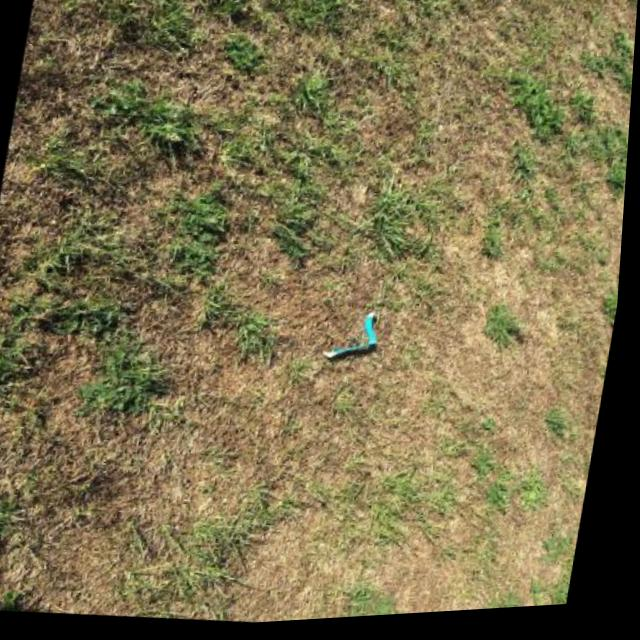other: (320, 306, 380, 364)
